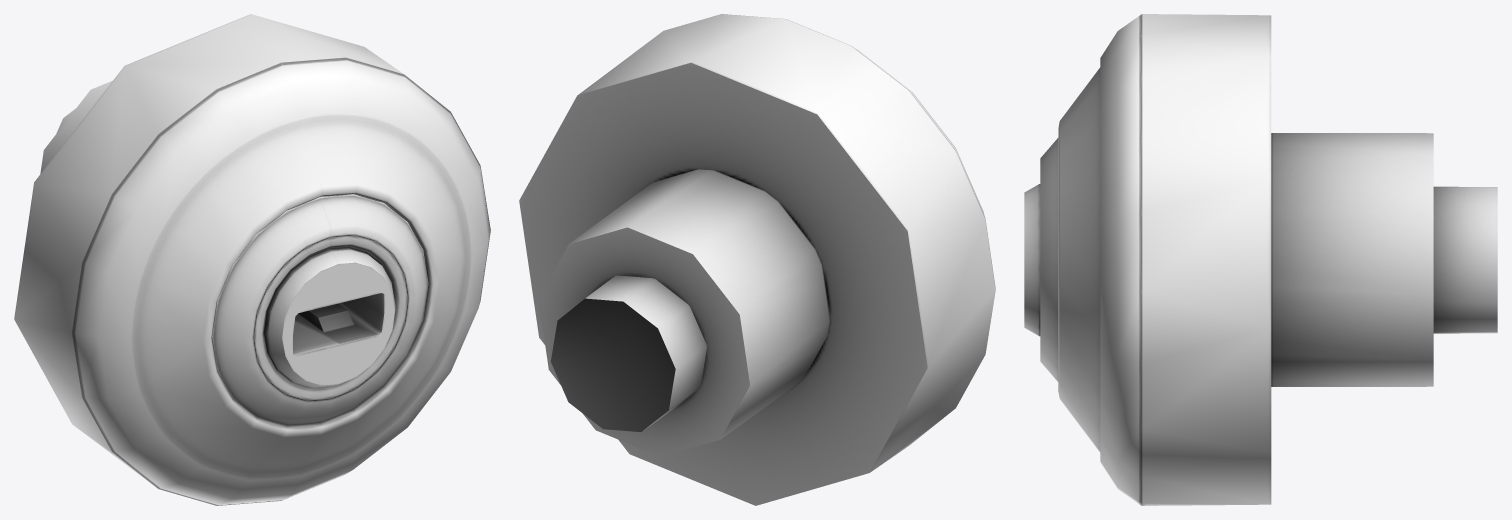
File: SerrureScienceFiction.fbx
3 views of the same model, side by side, from view 1: azimuth 30°, elevation 25°; view 2: azimuth 150°, elevation 25°; view 3: azimuth 270°, elevation 25° (orthographic). The views are drawn at different scales.
Visible parts, largest first — view 1: sm_lock_03; view 2: sm_lock_03; view 3: sm_lock_03.
Boxes of the visible parts, x1,y1,x2,y2 form: sm_lock_03: (14,14,490,505); sm_lock_03: (519,14,995,505); sm_lock_03: (1024,14,1497,505).
Bounding box in the file's own units: 3.17 × 3.17 × 3.03.
Materials: 1 (1 with a texture image).
